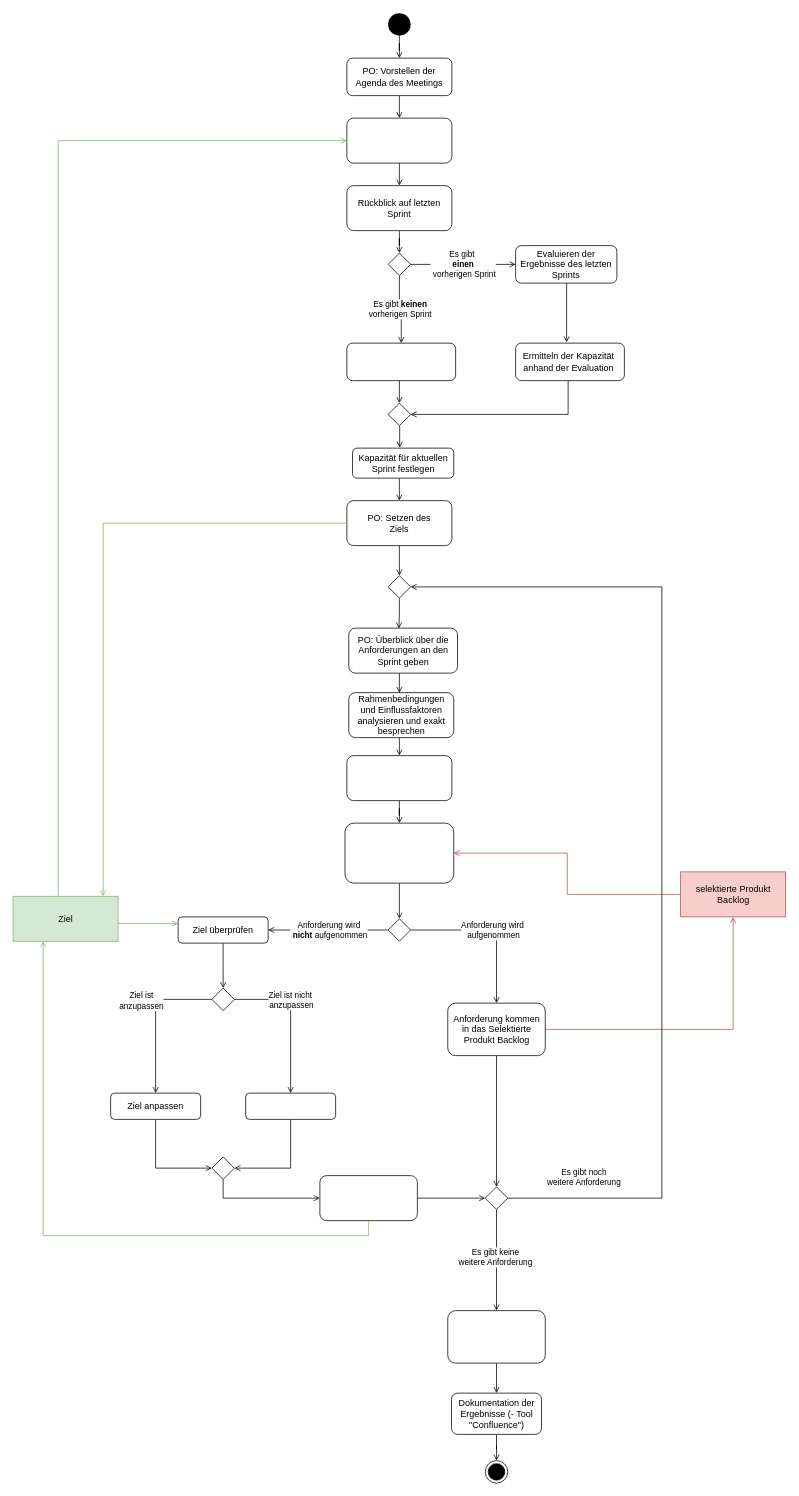
The diagram is 799 pixels wide and 1496 high, and some of its shapes have lost their labels. The shapes that lost their labels are listed below. From the top down, each one's box as (x1, y1, x2, y2) in pixels, then its label:
(346, 117, 452, 163): PO: vorstellen des Sprintziels
(346, 342, 456, 381): Kapazitäten (Velocity) ermitteln
(346, 755, 452, 801): Schätzung einer Anforderung durch die Methode "Planning Poker"
(344, 822, 454, 883): Entscheidung über Aufnahme der Anforderung in das selektierte Produkt Backlog
(245, 1092, 336, 1119): Ziel beibehalten
(319, 1175, 417, 1221): Ziel festlegen
(447, 1310, 545, 1363): "Forecast" aller Beteiligten
